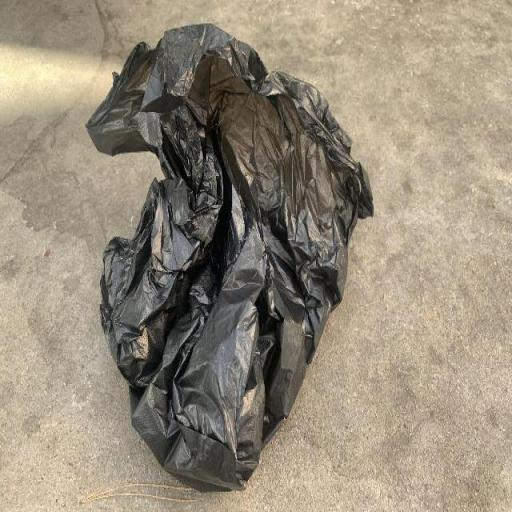plastic-bag: (82, 18, 376, 490)
